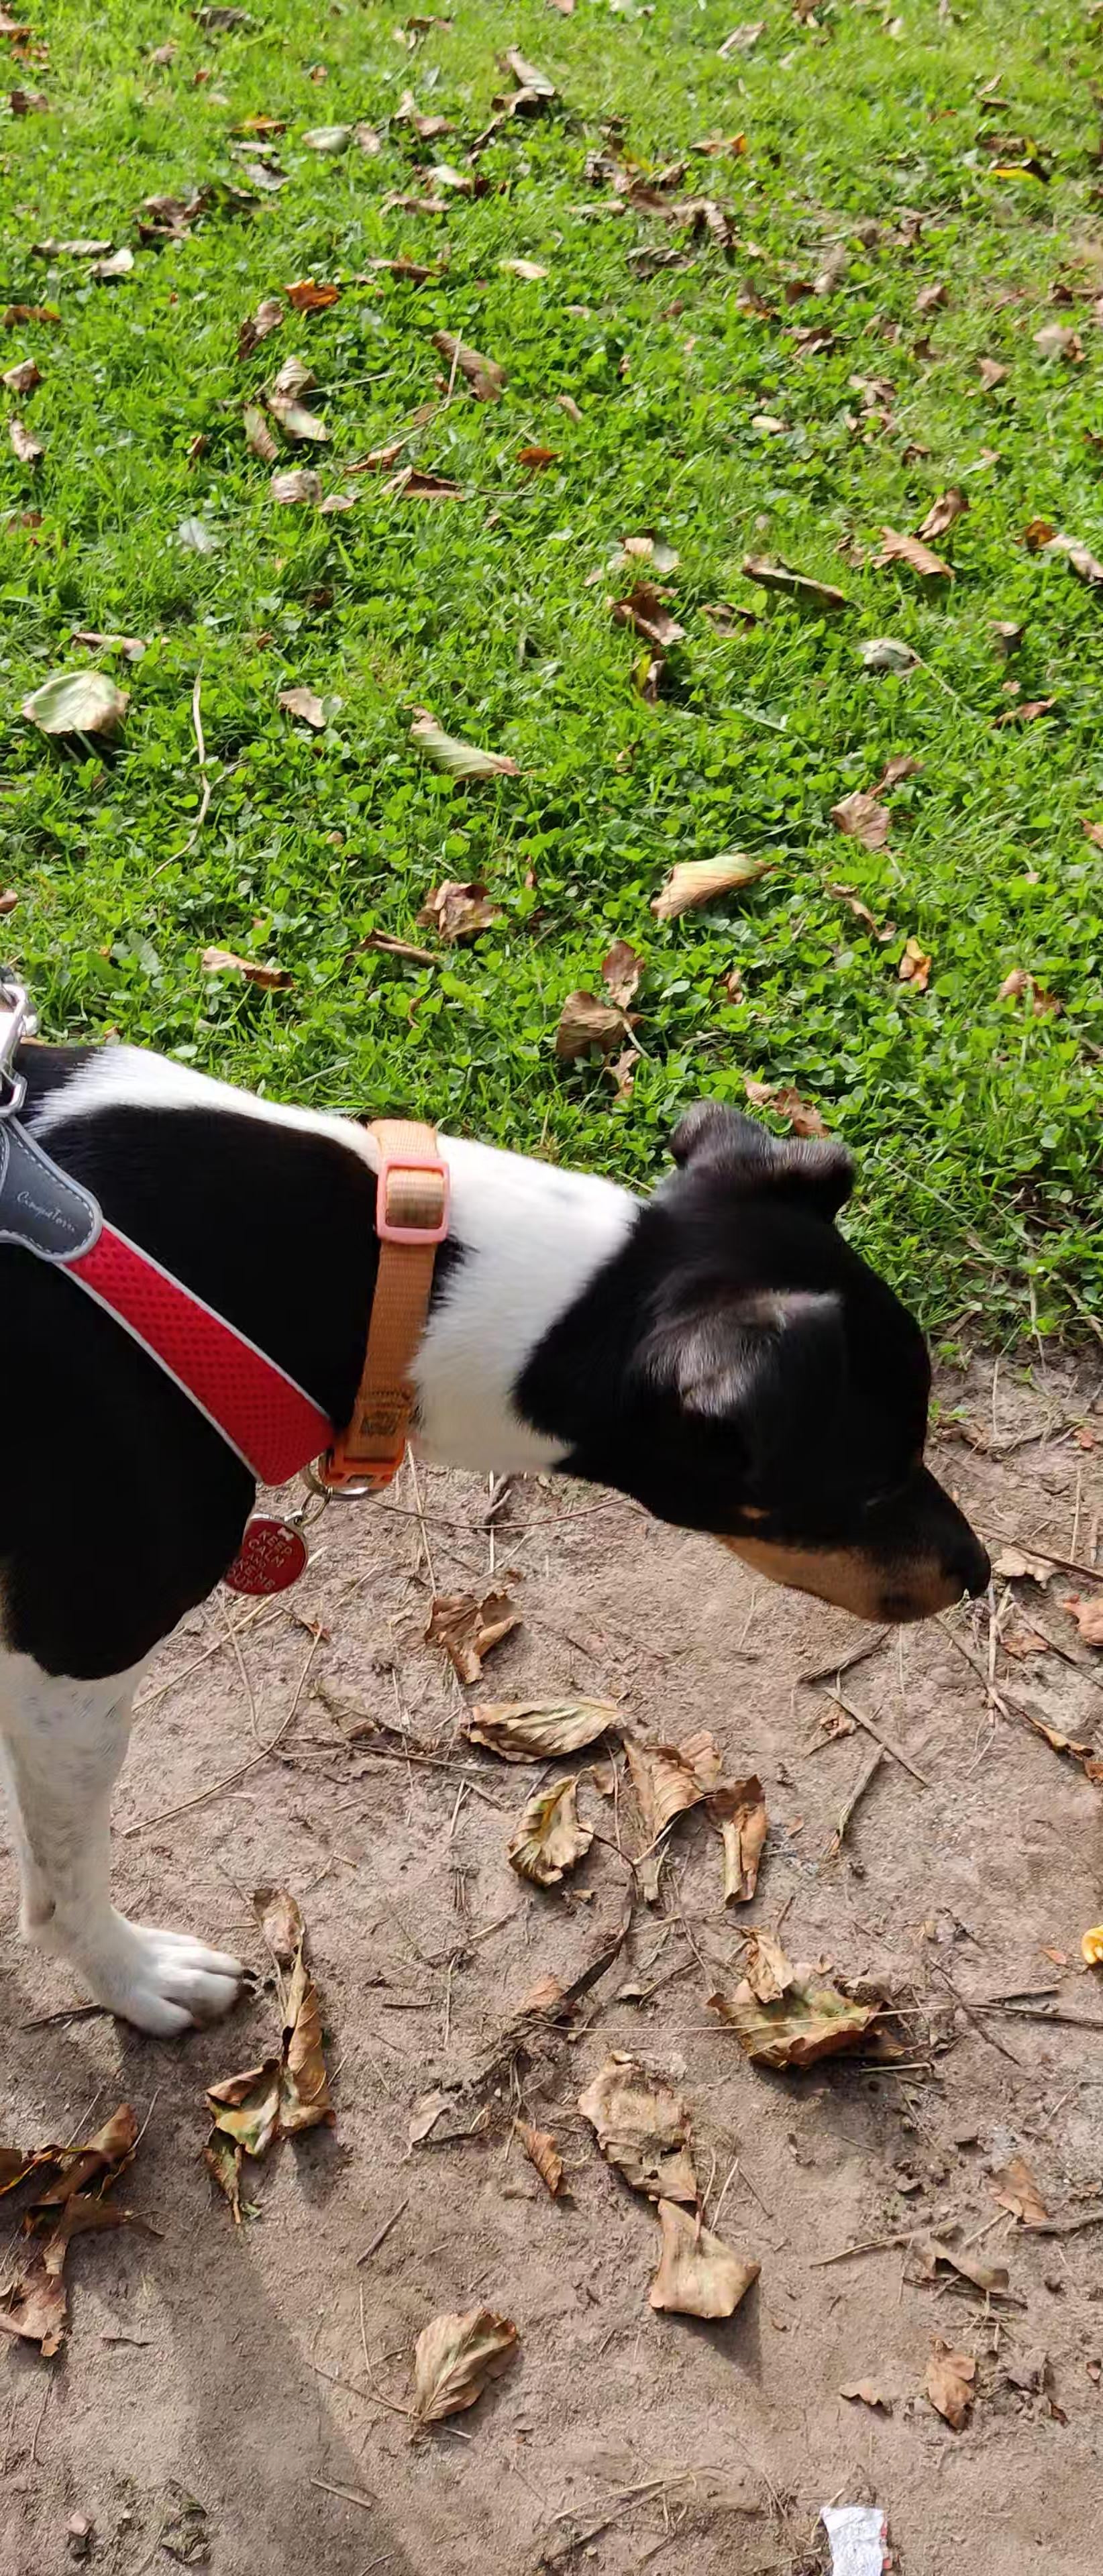Dog: (0, 940, 1001, 2060)
